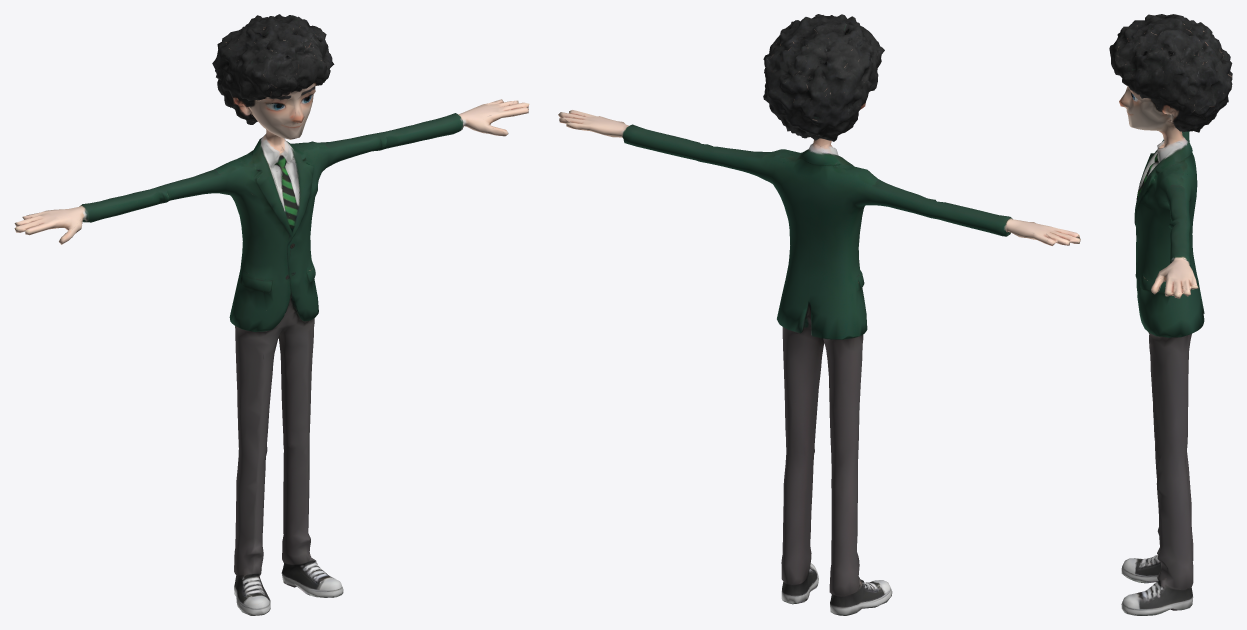
Rendered from Meshy_AI_Cartoon_Character_in__0110131215_texture.fbx.
3 views of the same model, side by side, from view 1: azimuth 30°, elevation 25°; view 2: azimuth 150°, elevation 25°; view 3: azimuth 270°, elevation 25° (orthographic).
Parts seen in each view (by area): view 1: Mesh_0; view 2: Mesh_0; view 3: Mesh_0.
Boxes of the visible parts, <box> form: Mesh_0: <box>14,14,529,615</box>; Mesh_0: <box>558,14,1080,615</box>; Mesh_0: <box>1109,14,1232,615</box>.
Bounding box in the file's own units: 180 × 192 × 37.32.
Materials: 1 (1 with a texture image).
